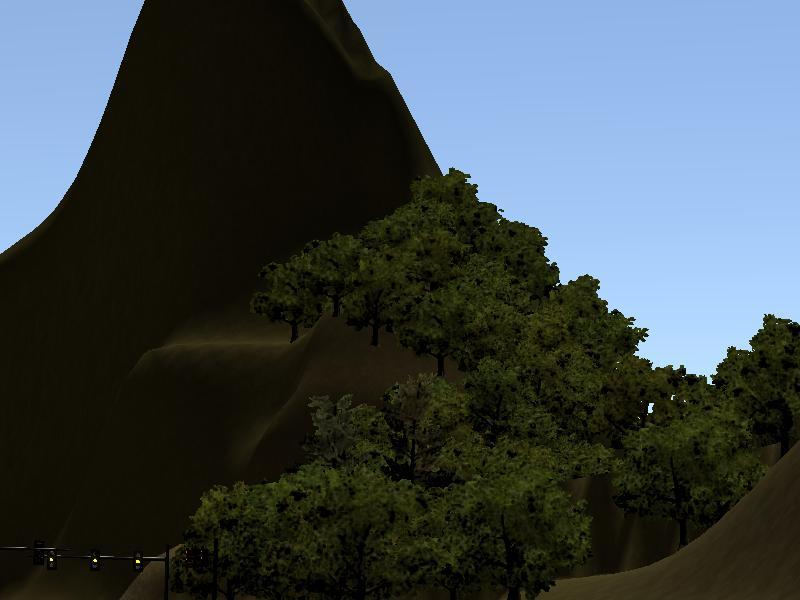Yellow: (133, 548, 144, 573), (90, 548, 101, 572), (46, 550, 58, 570)
